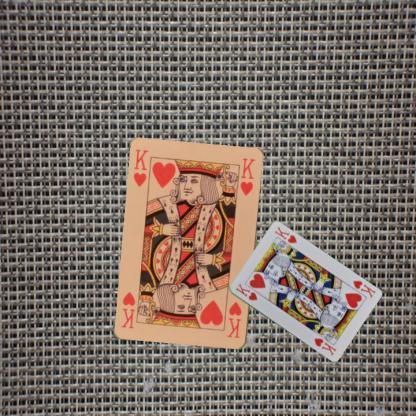Kh: (131, 147, 150, 188), (225, 299, 243, 340), (350, 278, 377, 299), (233, 280, 258, 301)
